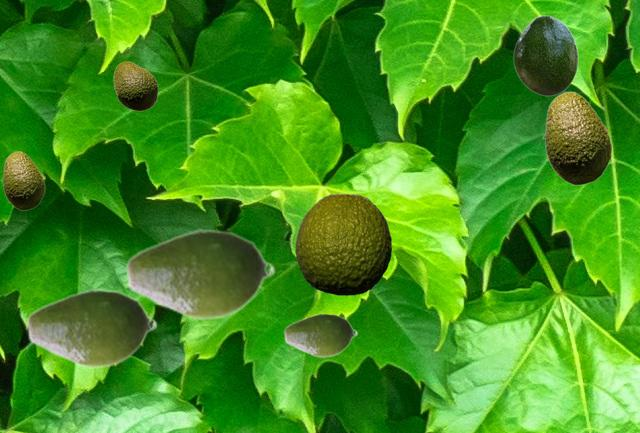avocado: (124, 227, 275, 320), (25, 287, 157, 368), (295, 193, 390, 294), (542, 91, 611, 184), (513, 15, 577, 95), (283, 312, 357, 357), (1, 151, 44, 209), (113, 61, 157, 110)
